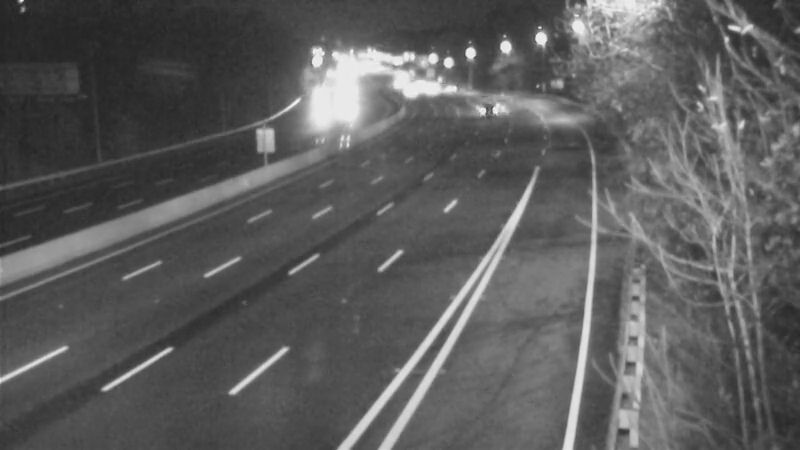vehicle: (466, 80, 516, 130)
